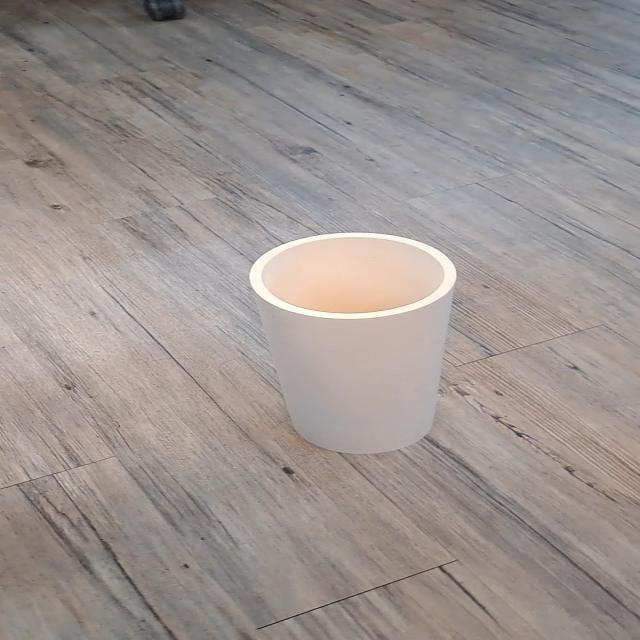CORAL: (190, 210, 504, 485)
